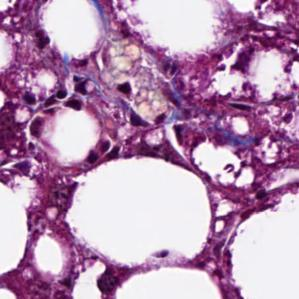inflammation: (16, 72, 95, 113), (81, 137, 125, 168), (116, 77, 139, 99)
